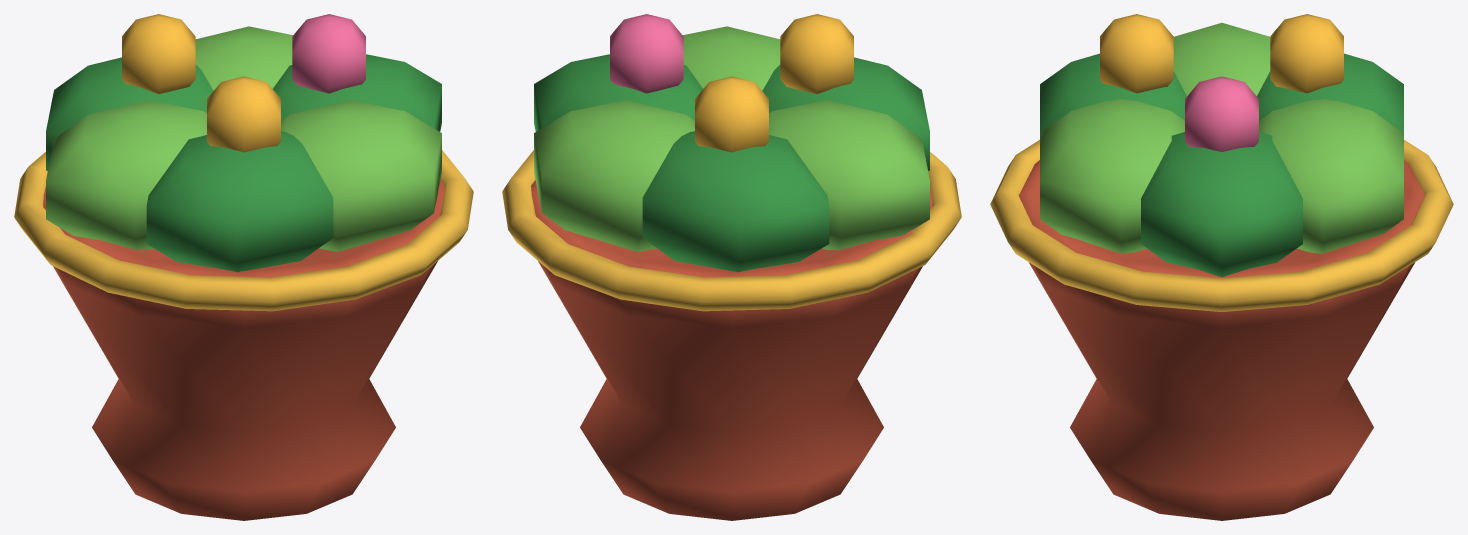
Rendered from planter-pot.glb.
The picture shows the model from 3 angles, left to right: view 1: azimuth 30°, elevation 25°; view 2: azimuth 150°, elevation 25°; view 3: azimuth 270°, elevation 25°; orthographic projection.
Visible parts, largest first — view 1: Mesh_terracotta, Mesh_leafLight, Mesh_leaf, Mesh_gold, Mesh_mango, Mesh_flamingo; view 2: Mesh_terracotta, Mesh_leafLight, Mesh_leaf, Mesh_gold, Mesh_mango, Mesh_flamingo; view 3: Mesh_terracotta, Mesh_leafLight, Mesh_leaf, Mesh_gold, Mesh_mango, Mesh_flamingo.
Boxes of the visible parts, box(x1,y1,x2,y2) form: Mesh_terracotta: box(43, 180, 444, 520); Mesh_leafLight: box(46, 26, 441, 251); Mesh_leaf: box(46, 54, 441, 272); Mesh_gold: box(14, 150, 473, 311); Mesh_mango: box(122, 14, 280, 152); Mesh_flamingo: box(292, 14, 365, 93); Mesh_terracotta: box(531, 180, 932, 520); Mesh_leafLight: box(534, 26, 929, 251); Mesh_leaf: box(534, 54, 929, 272); Mesh_gold: box(502, 150, 961, 311); Mesh_mango: box(695, 14, 853, 152); Mesh_flamingo: box(610, 14, 683, 93); Mesh_terracotta: box(1018, 160, 1425, 520); Mesh_leafLight: box(1040, 22, 1403, 253); Mesh_leaf: box(1040, 53, 1403, 277); Mesh_gold: box(990, 140, 1453, 311); Mesh_mango: box(1100, 14, 1343, 93); Mesh_flamingo: box(1185, 76, 1258, 151).
Bounding box in the file's own units: 1.04 × 1.06 × 1.04.
